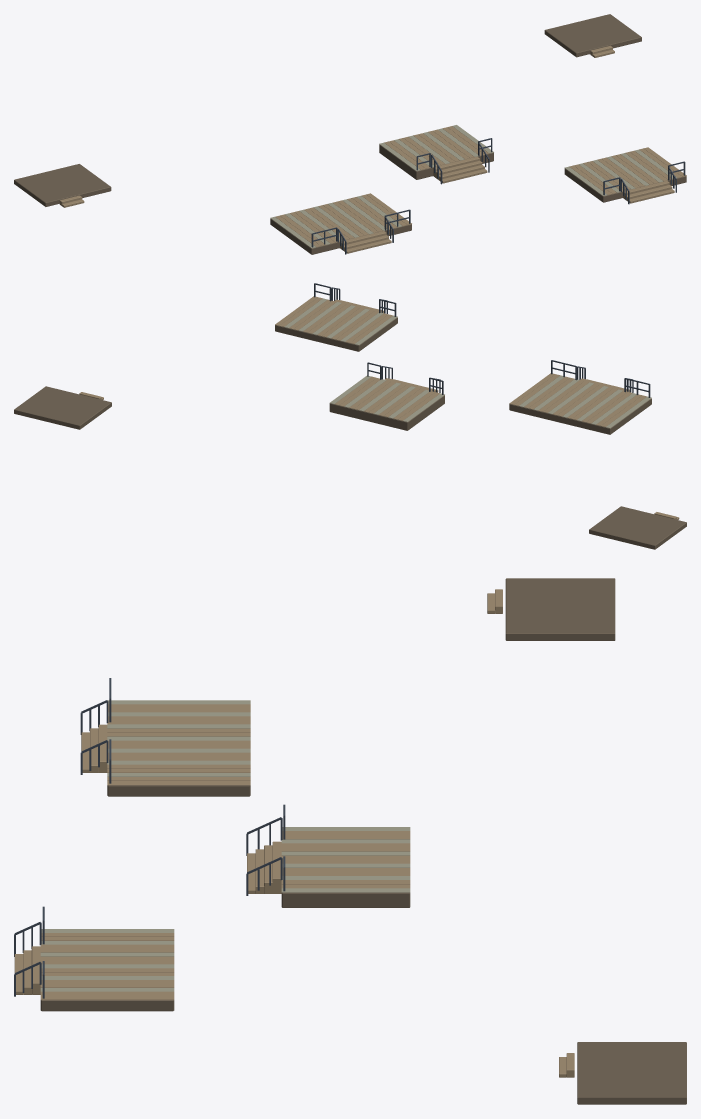
File: env_stairs_railings.glb
3 renders of one model, top to bottom at view 1: azimuth 30°, elevation 25°; view 2: azimuth 150°, elevation 25°; view 3: azimuth 270°, elevation 25°, orthographic. The views are drawn at different scales.
Parts seen in each view (by area): view 1: env_stairs_railings, env_stairs_railings__Residential_foundation_-23; view 2: env_stairs_railings, env_stairs_railings__Residential_foundation_-23; view 3: env_stairs_railings, env_stairs_railings__Residential_foundation_-23.
Boxes of the visible parts, left/top/right/bottom form: env_stairs_railings: left=59, top=14, right=686, bottom=254; env_stairs_railings__Residential_foundation_-23: left=14, top=164, right=111, bottom=206; env_stairs_railings: left=14, top=283, right=679, bottom=519; env_stairs_railings__Residential_foundation_-23: left=589, top=506, right=686, bottom=549; env_stairs_railings: left=14, top=589, right=686, bottom=1104; env_stairs_railings__Residential_foundation_-23: left=505, top=578, right=615, bottom=640.
Bounding box in the file's own units: 51.5 × 1.84 × 28.22.
